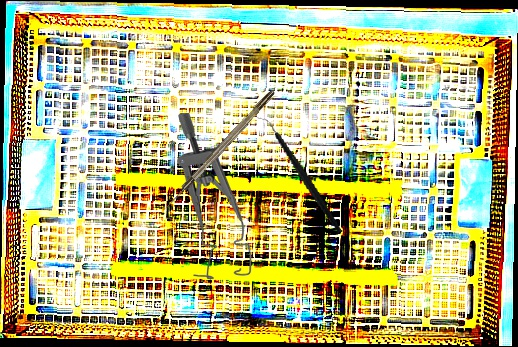Chopper: (256, 104, 343, 245)
Hook Surgical: (161, 88, 277, 213)
Speculum: (176, 111, 252, 280)
